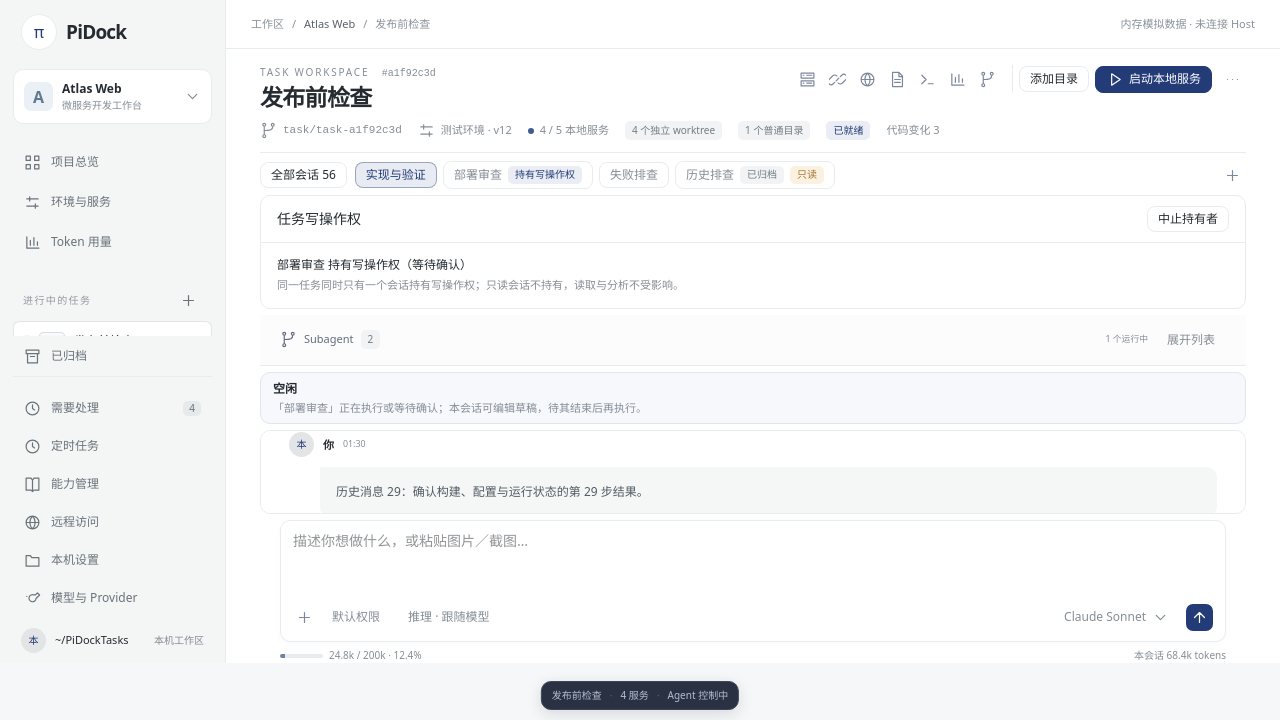
multi-session write coordination › surfaces a refused write with its reason instead of failing silently
(page scrolled)
Expected: the heading "发布前检查" is shown, [260,81,372,113]
Type "先改一处文件" into the text box named "给 Agent 的消息" at {"x": 753, "y": 564}, box [293,531,1213,597]
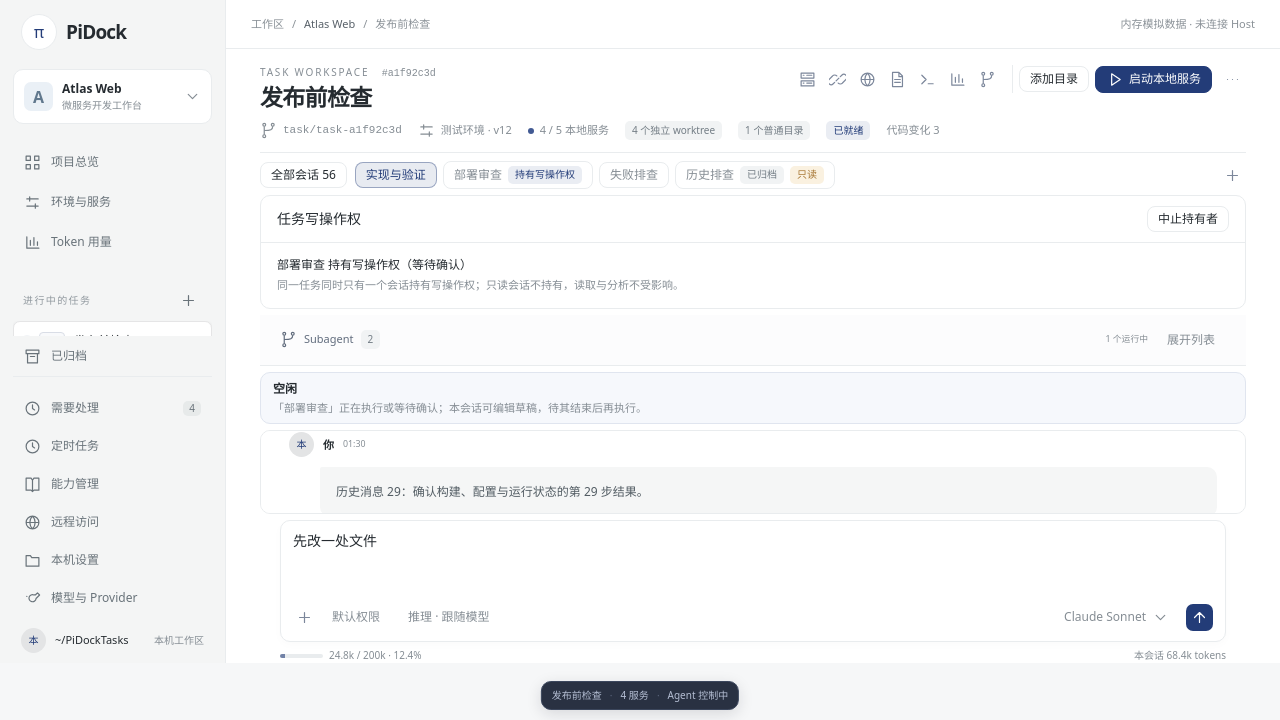
Click the button named "发送消息" at {"x": 1200, "y": 617}, box [1186,604,1213,630]
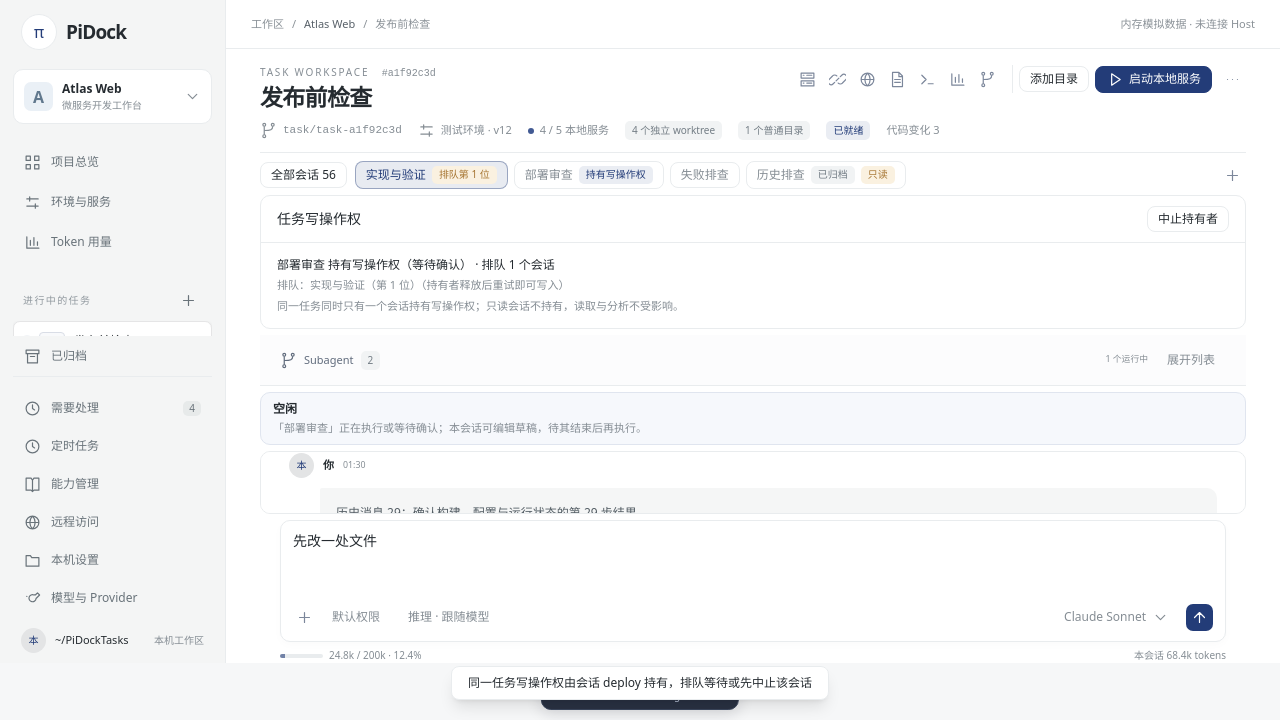
Now the button "同一任务写操作权由会话 deploy 持有，排队等待或先中止该会话" is shown, box [451,666,829,700]
